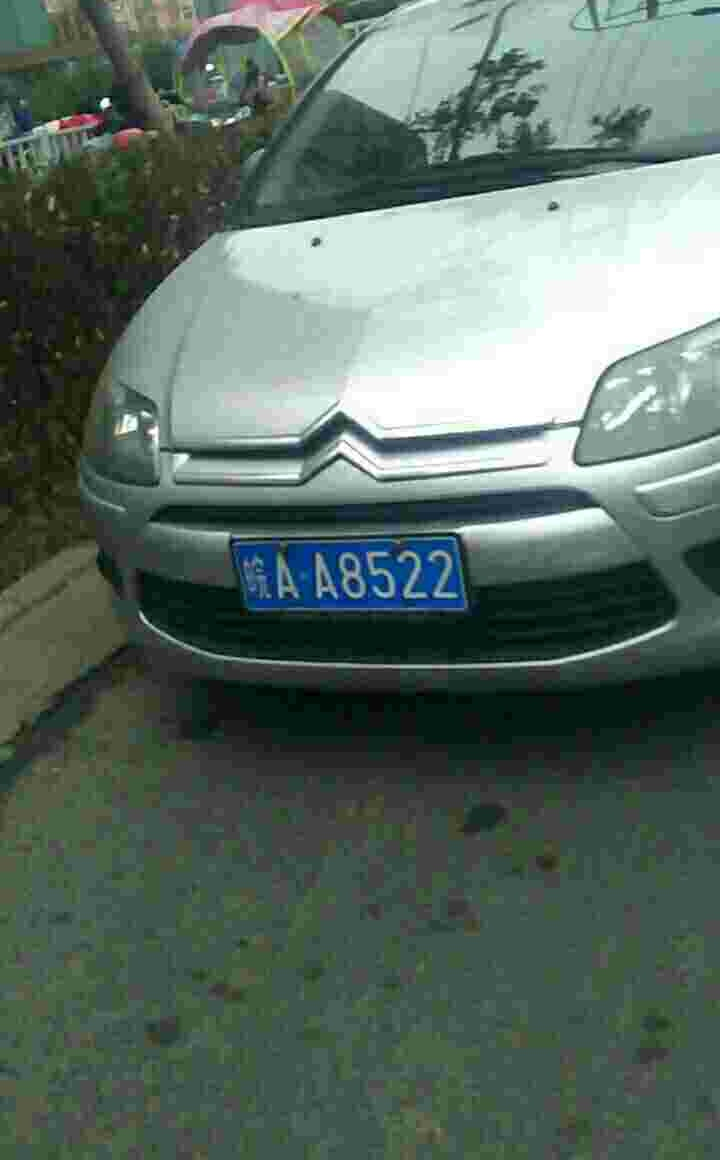license_plate: (236, 534, 470, 617)
